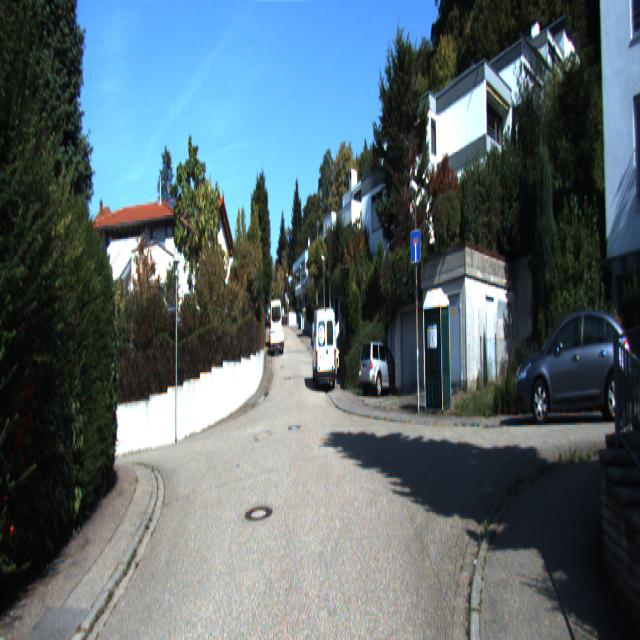Car: (514, 296, 635, 423), (358, 336, 404, 396)
Misc: (270, 325, 284, 349)
Van: (311, 304, 338, 390), (269, 299, 282, 347)
